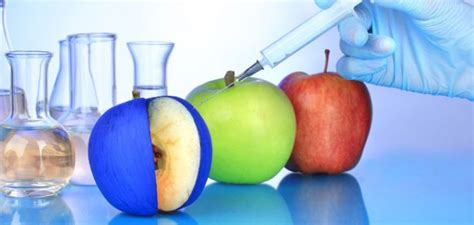apple: (90, 95, 214, 218), (186, 74, 298, 186), (280, 67, 373, 176)
